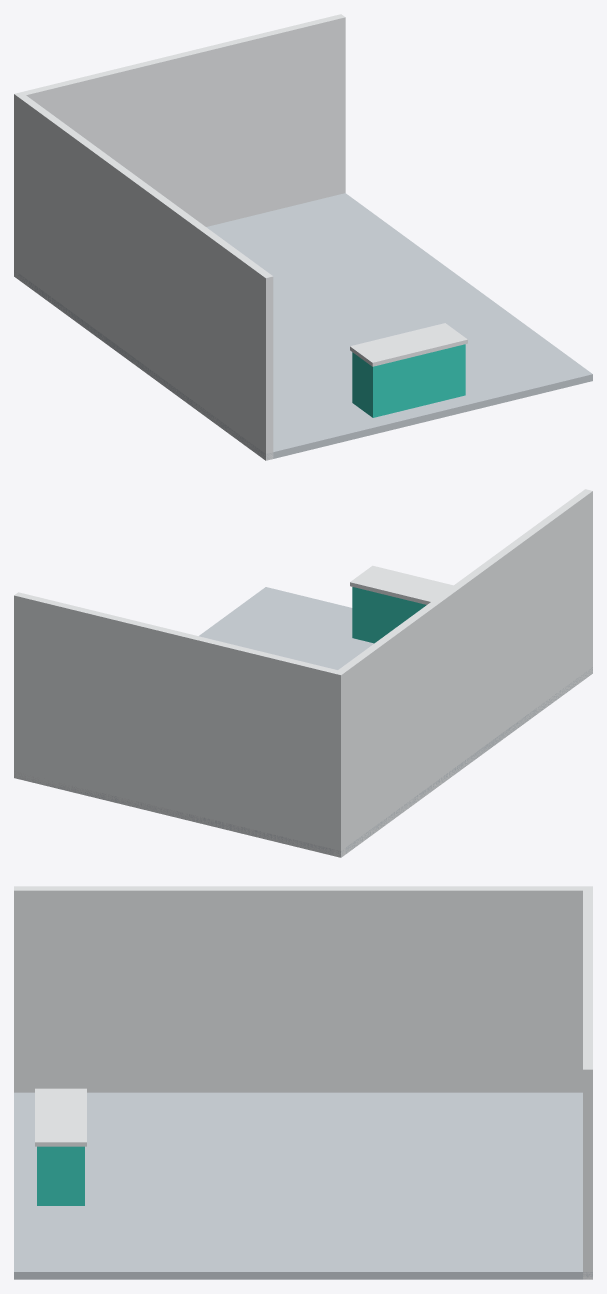
The picture shows the model from 3 angles, top to bottom: view 1: azimuth 30°, elevation 25°; view 2: azimuth 150°, elevation 25°; view 3: azimuth 270°, elevation 25°; orthographic projection. The views are drawn at different scales.
Parts seen in each view (by area): view 1: Exhibition Booth Concept; view 2: Exhibition Booth Concept; view 3: Exhibition Booth Concept.
Part boxes in pixels (x1=…): Exhibition Booth Concept: x1=14, y1=14, x2=592, y2=460; Exhibition Booth Concept: x1=14, y1=489, x2=592, y2=857; Exhibition Booth Concept: x1=14, y1=886, x2=592, y2=1279.
Size of the model in its own units: 6 by 3.2 by 8.
